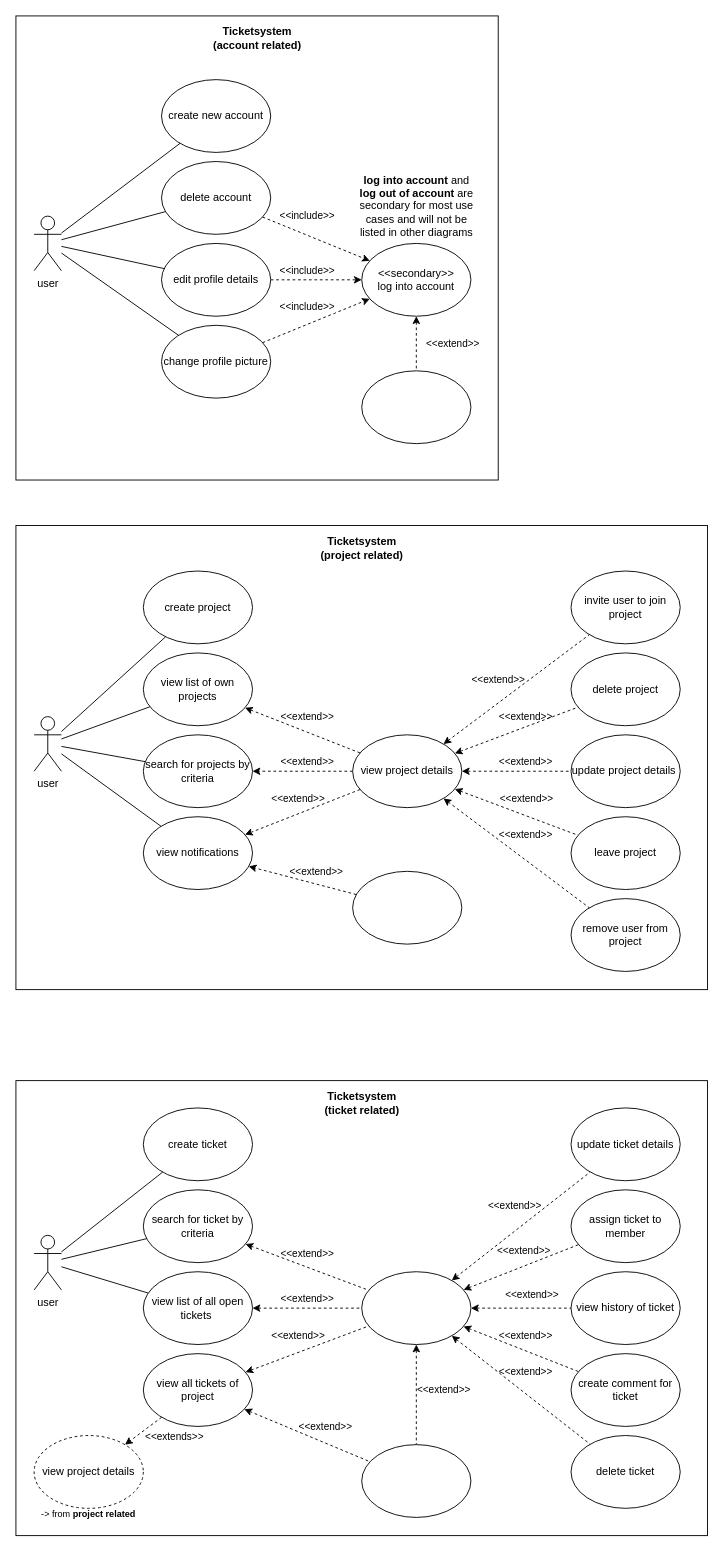
Some shapes in this 723 by 1552 pixel diagram are drawn without their labels. The shapes that lost their labels are listed below. From the top down, each one's box as (x1, y1, x2, y2) in pixels, then its label:
(361, 370, 471, 444): log out of account
(352, 870, 462, 944): join project
(361, 1271, 471, 1345): view ticket details
(361, 1444, 471, 1517): update ticket status
